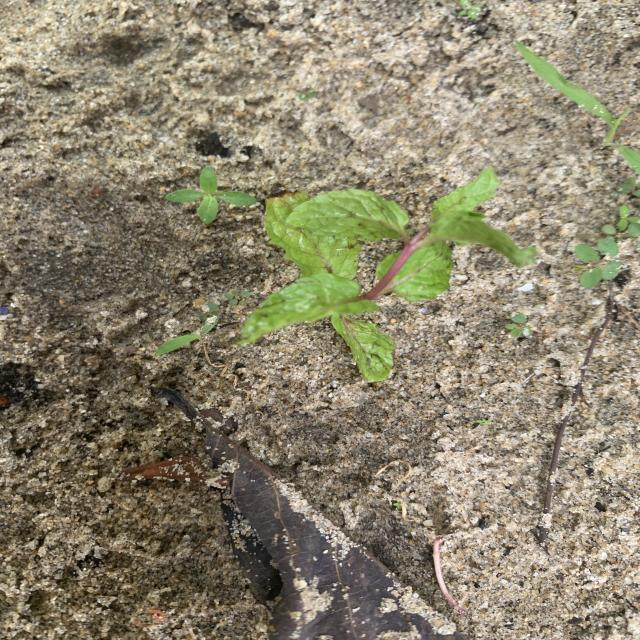crop: (244, 166, 535, 380)
weed: (515, 40, 640, 176), (165, 167, 255, 224), (155, 315, 218, 356), (573, 239, 620, 287), (601, 205, 640, 238), (504, 313, 531, 336), (458, 1, 481, 19), (225, 289, 249, 304), (618, 178, 639, 195), (476, 419, 491, 424)
